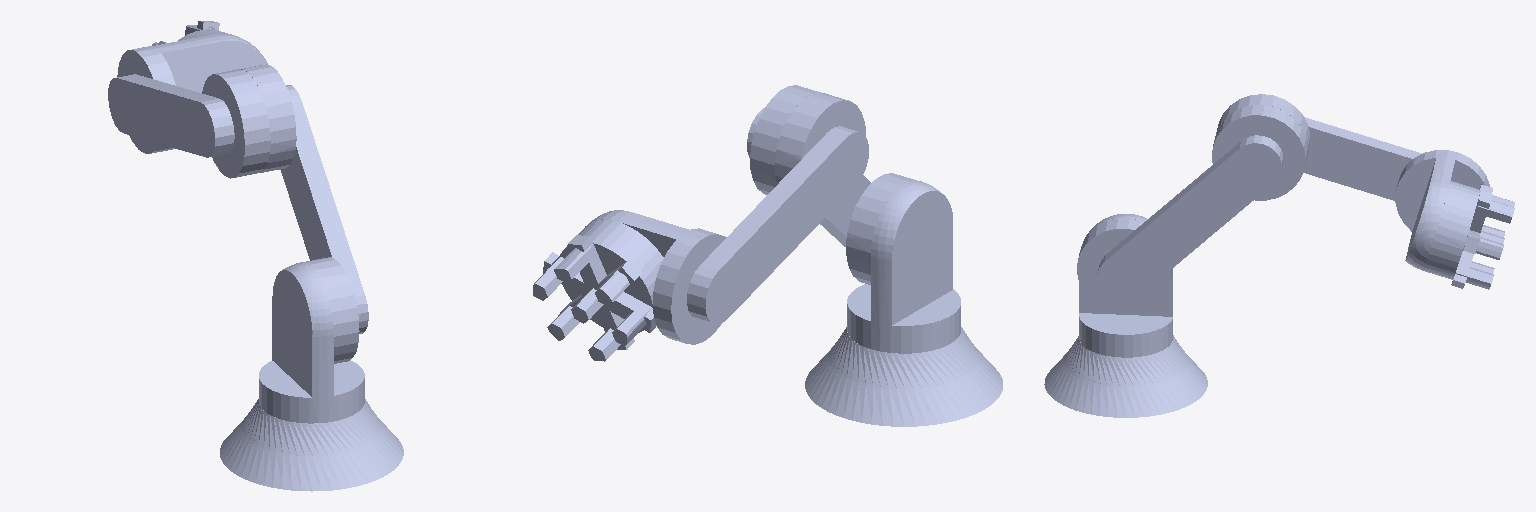
The robot description file, URDF, robot "Assembly_URDF":
<?xml version="1.0" encoding="utf-8"?>
<!-- This URDF was automatically created by SolidWorks to URDF Exporter! Originally created by [author] ([email redacted]) 
     Commit Version: 1.6.0-4-g7f85cfe  Build Version: 1.6.7995.38578
     For more information, please see http://wiki.ros.org/sw_urdf_exporter -->
<robot
  name="Assembly_URDF">
  <link
    name="base_link">
    <inertial>
      <origin
        xyz="0.016684 -0.041535 0.014428"
        rpy="0 0 0" />
      <mass
        value="2.5736" />
      <inertia
        ixx="0.0085564"
        ixy="-1.2232E-08"
        ixz="7.0438E-08"
        iyy="0.014534"
        iyz="1.8632E-08"
        izz="0.0085555" />
    </inertial>
    <visual>
      <origin
        xyz="0 0 0"
        rpy="0 0 0" />
      <geometry>
        <mesh
          filename="package://Assembly_URDF/meshes/base_link.STL" />
      </geometry>
      <material
        name="">
        <color
          rgba="0.79216 0.81961 0.93333 1" />
      </material>
    </visual>
    <collision>
      <origin
        xyz="0 0 0"
        rpy="0 0 0" />
      <geometry>
        <mesh
          filename="package://Assembly_URDF/meshes/base_link.STL" />
      </geometry>
    </collision>
  </link>
  <link
    name="Servo1">
    <inertial>
      <origin
        xyz="0.010896 0.072909 0.012699"
        rpy="0 0 0" />
      <mass
        value="1.3736" />
      <inertia
        ixx="0.006764"
        ixy="0.0004855"
        ixz="-3.9895E-10"
        iyy="0.0031857"
        iyz="-2.0209E-09"
        izz="0.0058138" />
    </inertial>
    <visual>
      <origin
        xyz="0 0 0"
        rpy="0 0 0" />
      <geometry>
        <mesh
          filename="package://Assembly_URDF/meshes/Servo1.STL" />
      </geometry>
      <material
        name="">
        <color
          rgba="0.79216 0.81961 0.93333 1" />
      </material>
    </visual>
    <collision>
      <origin
        xyz="0 0 0"
        rpy="0 0 0" />
      <geometry>
        <mesh
          filename="package://Assembly_URDF/meshes/Servo1.STL" />
      </geometry>
    </collision>
  </link>
  <joint
    name="Servo_1_joint"
    type="revolute">
    <origin
      xyz="0 0 0"
      rpy="1.5708 0 -0.099474" />
    <parent
      link="base_link" />
    <child
      link="Servo1" />
    <axis
      xyz="0 1 0" />
    <limit
      lower="0"
      upper="0"
      effort="0"
      velocity="0" />
  </joint>
  <link
    name="Servo_2">
    <inertial>
      <origin
        xyz="0.075602 2.7756E-17 -0.15"
        rpy="0 0 0" />
      <mass
        value="2.2845" />
      <inertia
        ixx="0.04585"
        ixy="2.1684E-19"
        ixz="-3.7269E-18"
        iyy="0.044332"
        iyz="-2.1684E-18"
        izz="0.0033463" />
    </inertial>
    <visual>
      <origin
        xyz="0 0 0"
        rpy="0 0 0" />
      <geometry>
        <mesh
          filename="package://Assembly_URDF/meshes/Servo_2.STL" />
      </geometry>
      <material
        name="">
        <color
          rgba="0.79216 0.81961 0.93333 1" />
      </material>
    </visual>
    <collision>
      <origin
        xyz="0 0 0"
        rpy="0 0 0" />
      <geometry>
        <mesh
          filename="package://Assembly_URDF/meshes/Servo_2.STL" />
      </geometry>
    </collision>
  </link>
  <joint
    name="Servo2_joint"
    type="revolute">
    <origin
      xyz="-0.024226 0.14081 0.012699"
      rpy="0.76912 0 0" />
    <parent
      link="Servo1" />
    <child
      link="Servo_2" />
    <axis
      xyz="1 0 0" />
    <limit
      lower="0"
      upper="0"
      effort="0"
      velocity="0" />
  </joint>
  <link
    name="Servo_3">
    <inertial>
      <origin
        xyz="-0.031238 2.4538E-08 -0.17296"
        rpy="0 0 0" />
      <mass
        value="2.7745" />
      <inertia
        ixx="0.053242"
        ixy="4.1145E-09"
        ixz="-0.0068865"
        iyy="0.057462"
        iyz="5.8529E-09"
        izz="0.010736" />
    </inertial>
    <visual>
      <origin
        xyz="0 0 0"
        rpy="0 0 0" />
      <geometry>
        <mesh
          filename="package://Assembly_URDF/meshes/Servo_3.STL" />
      </geometry>
      <material
        name="">
        <color
          rgba="0.79216 0.81961 0.93333 1" />
      </material>
    </visual>
    <collision>
      <origin
        xyz="0 0 0"
        rpy="0 0 0" />
      <geometry>
        <mesh
          filename="package://Assembly_URDF/meshes/Servo_3.STL" />
      </geometry>
    </collision>
  </link>
  <joint
    name="Servo_3_joint"
    type="revolute">
    <origin
      xyz="0 0 -0.3"
      rpy="1.0539 0 -3.1416" />
    <parent
      link="Servo_2" />
    <child
      link="Servo_3" />
    <axis
      xyz="1 0 0" />
    <limit
      lower="0"
      upper="0"
      effort="0"
      velocity="0" />
  </joint>
  <link
    name="Servo_4">
    <inertial>
      <origin
        xyz="1.1102E-15 0.078827 -2.498E-16"
        rpy="0 0 0" />
      <mass
        value="1.2437" />
      <inertia
        ixx="0.002546"
        ixy="-2.1792E-17"
        ixz="-3.3119E-19"
        iyy="0.0034157"
        iyz="1.0937E-17"
        izz="0.002546" />
    </inertial>
    <visual>
      <origin
        xyz="0 0 0"
        rpy="0 0 0" />
      <geometry>
        <mesh
          filename="package://Assembly_URDF/meshes/Servo_4.STL" />
      </geometry>
      <material
        name="">
        <color
          rgba="0.79216 0.81961 0.93333 1" />
      </material>
    </visual>
    <collision>
      <origin
        xyz="0 0 0"
        rpy="0 0 0" />
      <geometry>
        <mesh
          filename="package://Assembly_URDF/meshes/Servo_4.STL" />
      </geometry>
    </collision>
  </link>
  <joint
    name="Servo_4_joint"
    type="revolute">
    <origin
      xyz="-0.12726 0 -0.25975"
      rpy="-1.5708 0 -1.279" />
    <parent
      link="Servo_3" />
    <child
      link="Servo_4" />
    <axis
      xyz="0 1 0" />
    <limit
      lower="0"
      upper="0"
      effort="0"
      velocity="0" />
  </joint>
</robot>

--- What the picture shows (computed from the rendered views, not written in the file) ---
The picture shows the robot from 3 angles, left to right: view 1: azimuth 30°, elevation 25°; view 2: azimuth 150°, elevation 25°; view 3: azimuth 270°, elevation 25°; orthographic projection.
Model Assembly_URDF with 5 links and 4 joints (4 revolute), rooted at base_link, posed every joint at zero.
Links seen in each view (by area): view 1: Servo_3, Servo_2, base_link, Servo1, Servo_4; view 2: Servo_3, Servo1, base_link, Servo_4, Servo_2; view 3: Servo_2, Servo_3, base_link, Servo_4, Servo1.
Boxes of the visible links, left/top/right/bottom form: Servo_3: left=108, top=34, right=270, bottom=178; Servo_2: left=241, top=64, right=368, bottom=363; base_link: left=220, top=399, right=403, bottom=491; Servo1: left=259, top=262, right=364, bottom=423; Servo_4: left=152, top=21, right=234, bottom=45; Servo_3: left=585, top=93, right=868, bottom=344; Servo1: left=847, top=181, right=960, bottom=353; base_link: left=805, top=327, right=1002, bottom=426; Servo_4: left=533, top=220, right=663, bottom=361; Servo_2: left=747, top=85, right=916, bottom=284; Servo_2: left=1077, top=105, right=1307, bottom=313; Servo_3: left=1216, top=94, right=1489, bottom=270; base_link: left=1044, top=335, right=1207, bottom=417; Servo_4: left=1423, top=181, right=1514, bottom=289; Servo1: left=1079, top=214, right=1172, bottom=357.
Size in the robot's own frame: 0.356 by 0.7483 by 0.4986 metres.
Meshes: 5 distinct files referenced, 5 mesh visuals loaded (5 binary STL).